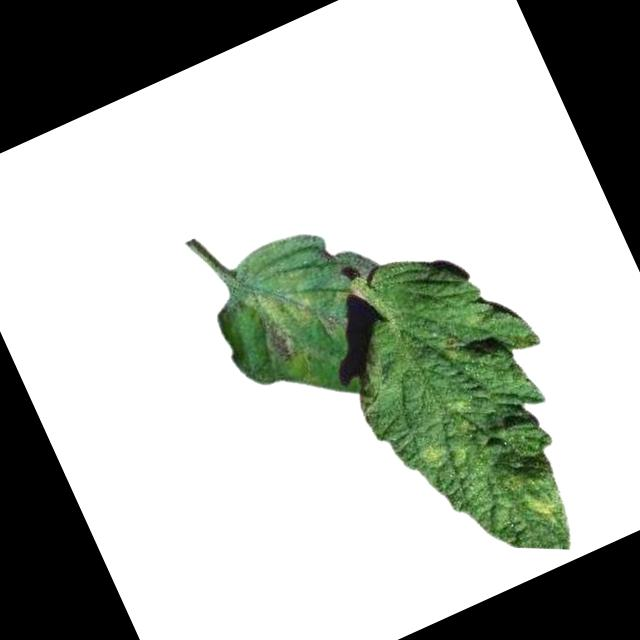Leaf_Mold: (240, 267, 330, 368), (521, 481, 560, 525), (416, 433, 454, 474)
